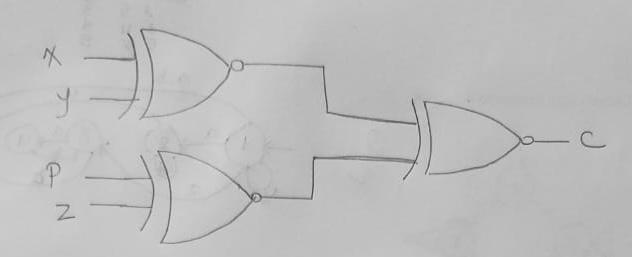XNOR: (113, 12, 260, 128), (128, 143, 274, 250), (396, 89, 548, 188)
